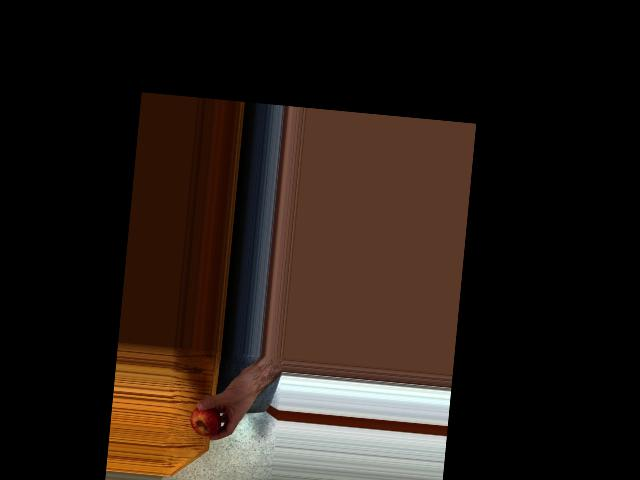apple: (189, 400, 224, 438)
